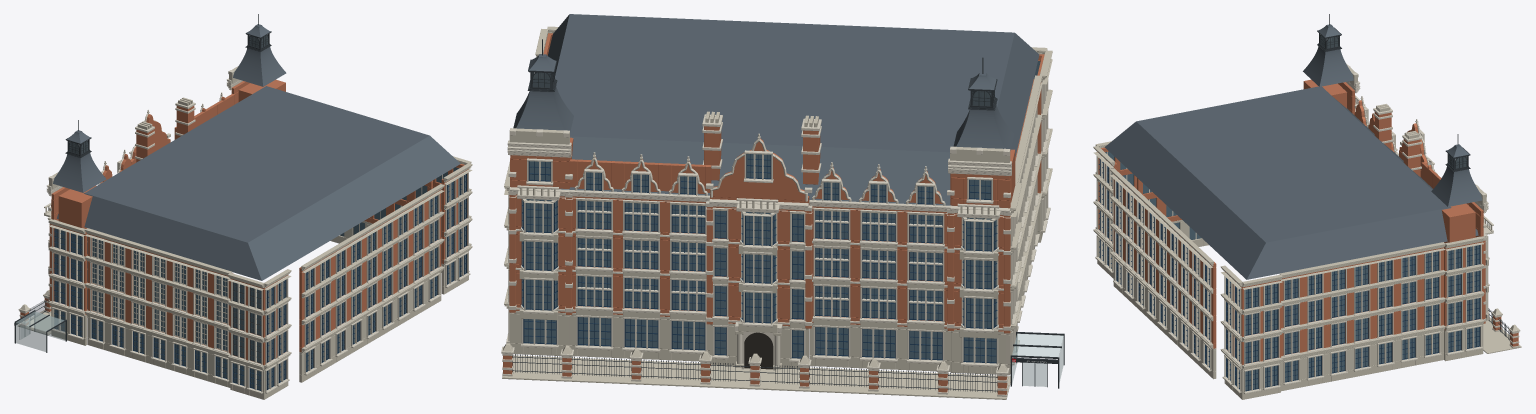
Rendered from sal-exterior-fd6568cc9580.glb.
The picture shows the model from 3 angles, left to right: view 1: azimuth 30°, elevation 25°; view 2: azimuth 150°, elevation 25°; view 3: azimuth 270°, elevation 25°; orthographic projection. The views are drawn at different scales.
Visible parts, largest first — view 1: SAL.001; view 2: SAL.001; view 3: SAL.001.
Boxes of the visible parts, x1,y1,x2,y2 form: SAL.001: (14, 14, 472, 399); SAL.001: (501, 14, 1064, 399); SAL.001: (1093, 14, 1521, 399).
Bounding box in the file's own units: 68.11 × 33.89 × 61.15.
